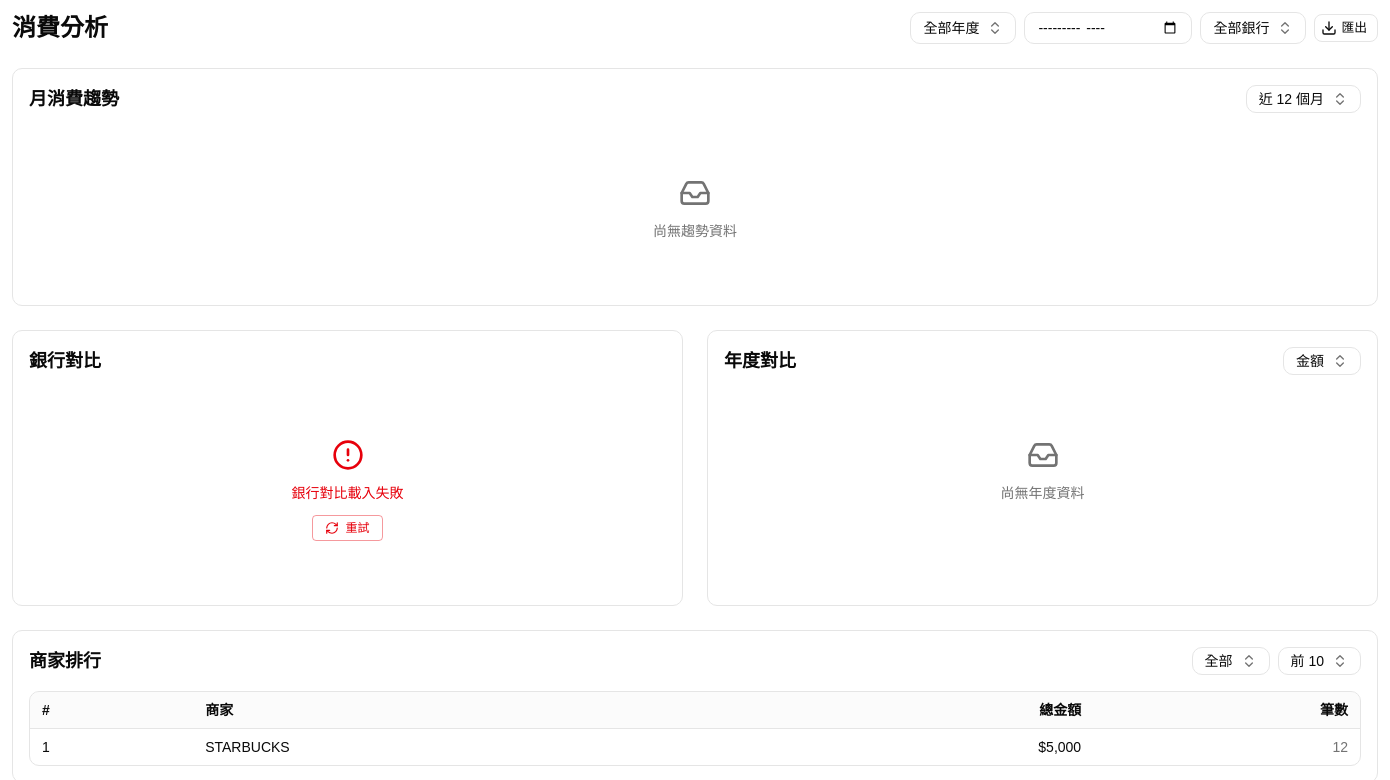
Test case: InsightsPage › isolates a failed section with a retry button; others render; retry recovers
Check: the text "STARBUCKS" is shown, box [193,728,750,765]
Check: the text "銀行對比載入失敗" is shown, box [292,483,404,503]
點擊重試 → refetch → 成功後錯誤清除、重試按鈕消失
Click the button "重試". click: (348,528)
box: [312,515,382,541]
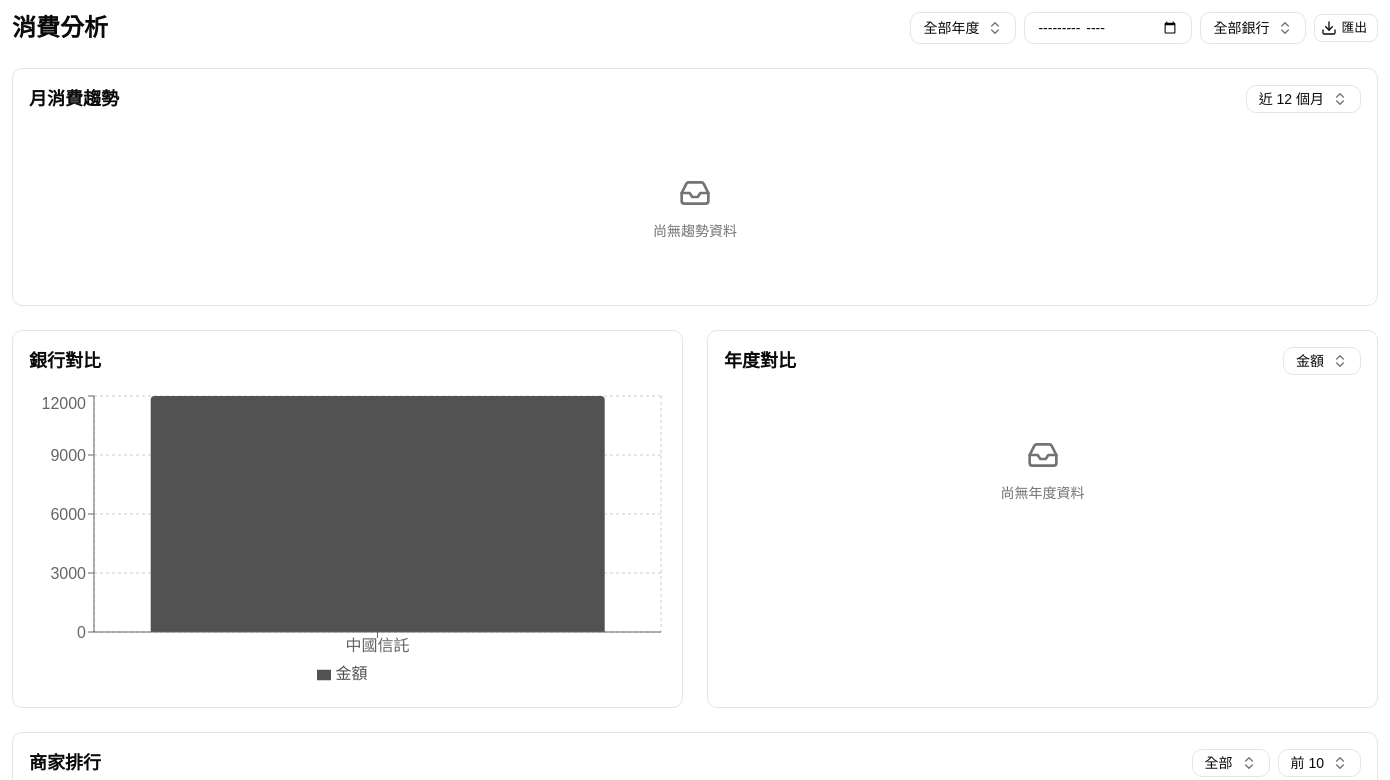
Check: the button "重試" is gone
